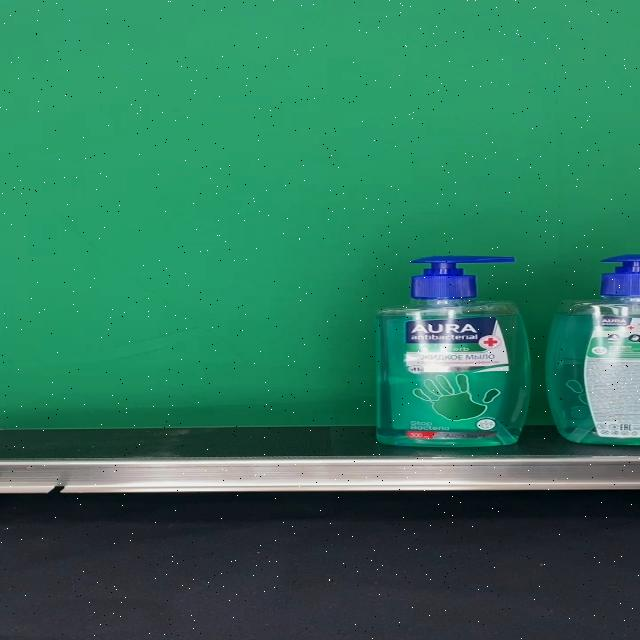Bottle: (374, 255, 533, 448)
Cap: (408, 256, 516, 300)
